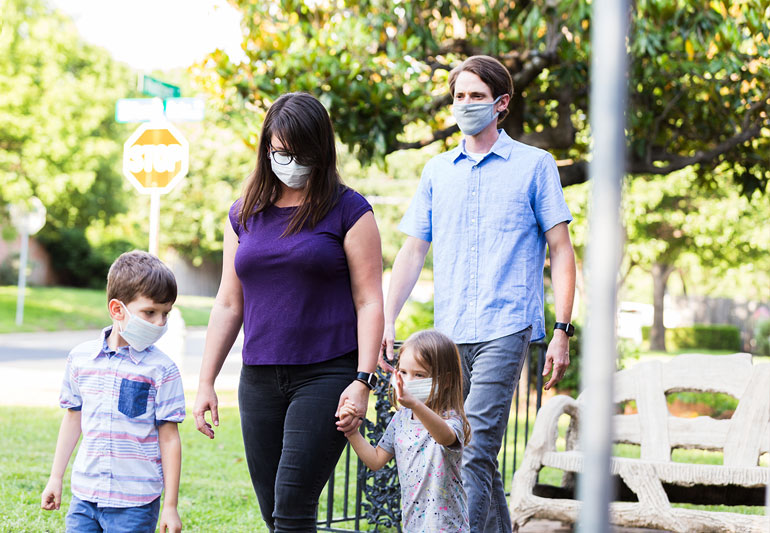with_mask: (114, 277, 174, 349), (268, 128, 325, 201), (450, 76, 499, 134), (392, 355, 434, 399)
